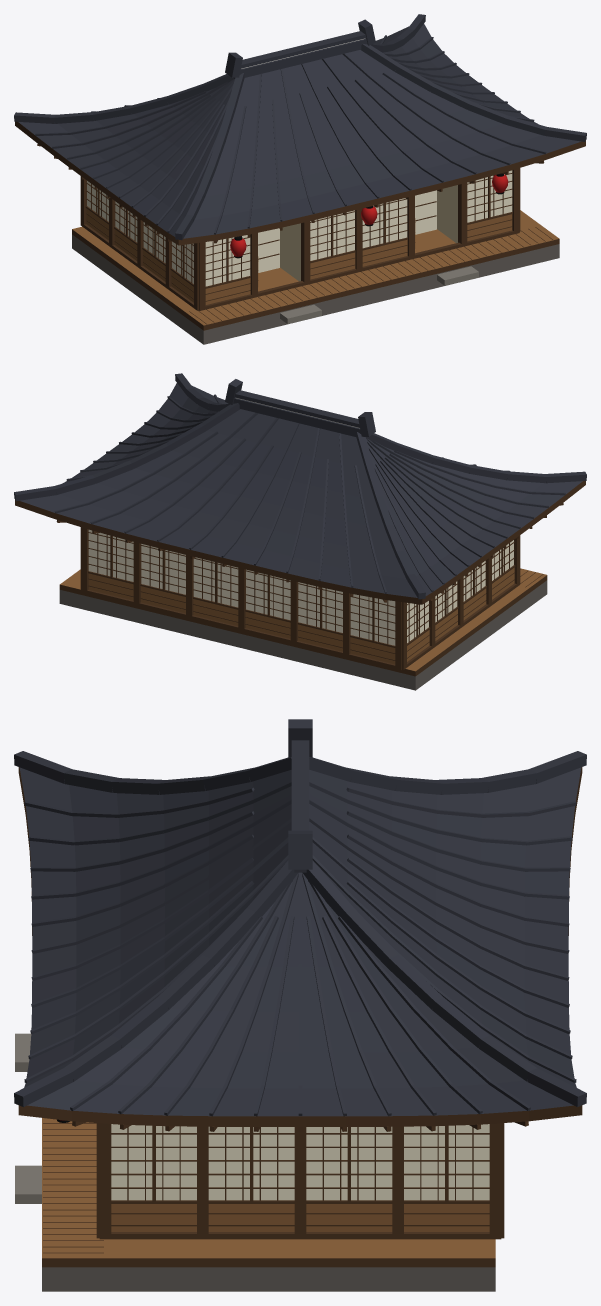
The model's file is SM_Onsen_Bathhouse.fbx.
The picture shows the model from 3 angles, top to bottom: view 1: azimuth 30°, elevation 25°; view 2: azimuth 150°, elevation 25°; view 3: azimuth 270°, elevation 25°; orthographic projection. The views are drawn at different scales.
Parts seen in each view (by area): view 1: SM_Onsen_Bathhouse; view 2: SM_Onsen_Bathhouse; view 3: SM_Onsen_Bathhouse.
Part boxes in pixels (x1,y1,x2,y2): SM_Onsen_Bathhouse: (14,14,586,344); SM_Onsen_Bathhouse: (14,373,586,690); SM_Onsen_Bathhouse: (14,719,586,1291).
Bounding box in the file's own units: 16.78 × 8.15 × 11.75.
